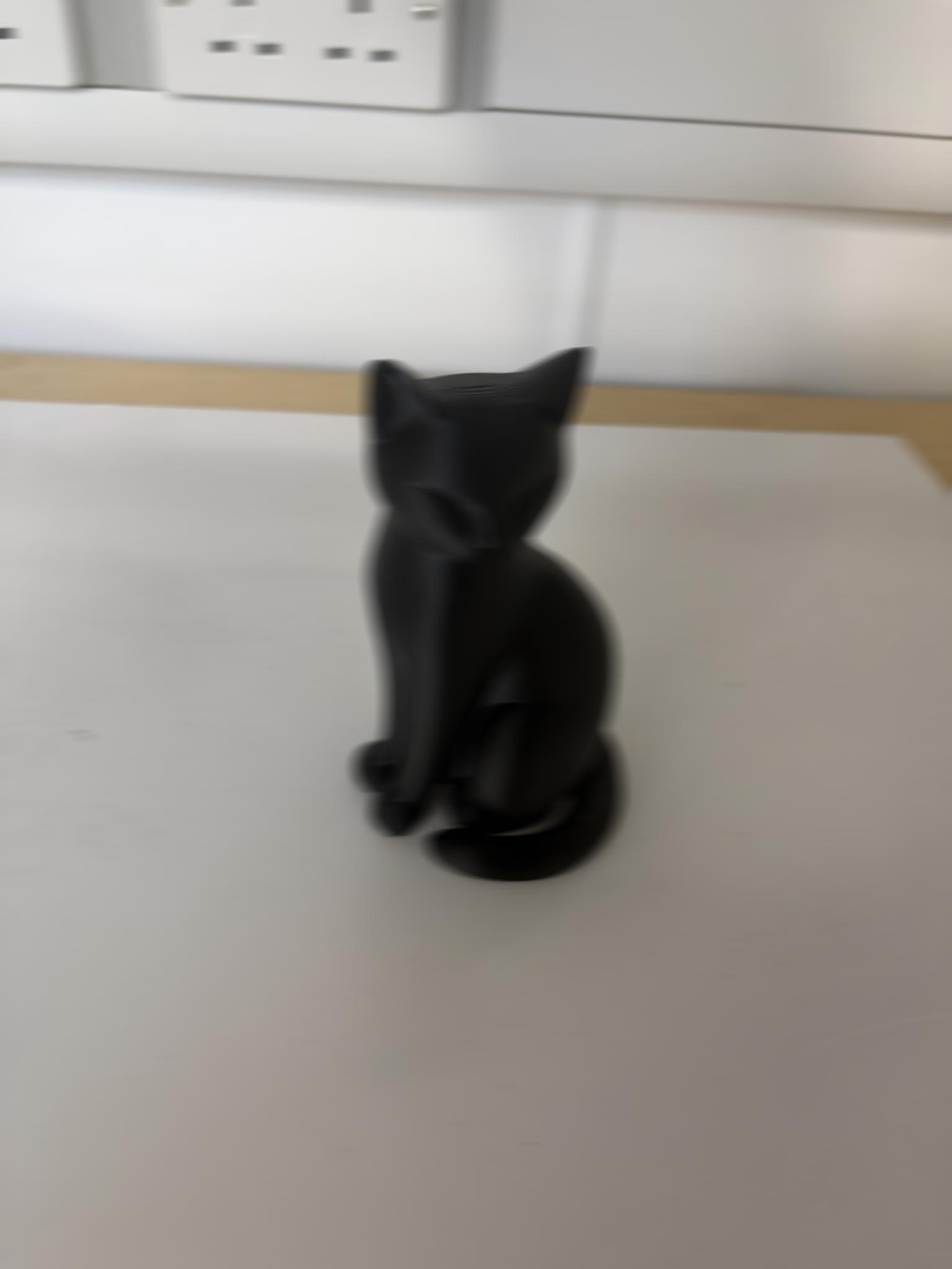cat: (354, 348, 622, 879)
